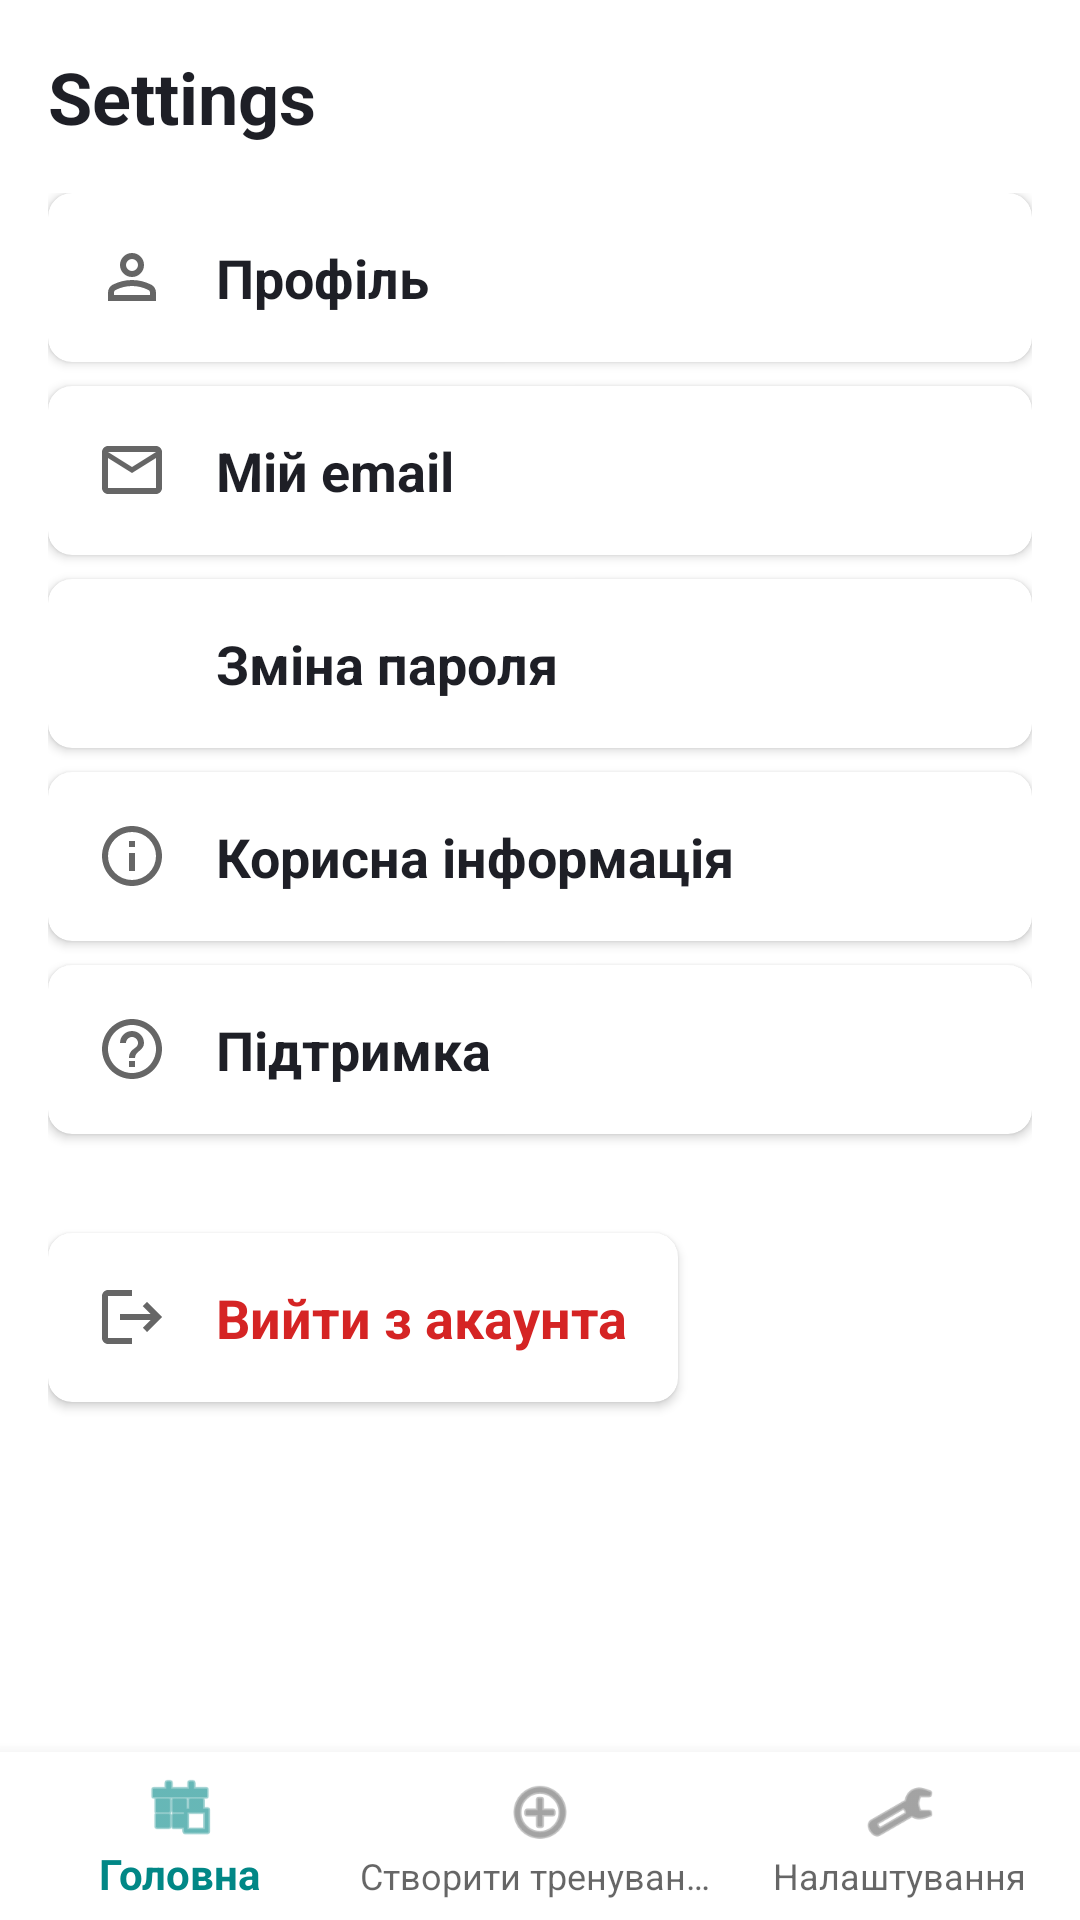

Where to tap for icons on this 1080 x 1920 app screen, as (x,y):
info: (132,856)
profile: (132,277)
support: (132,1049)
